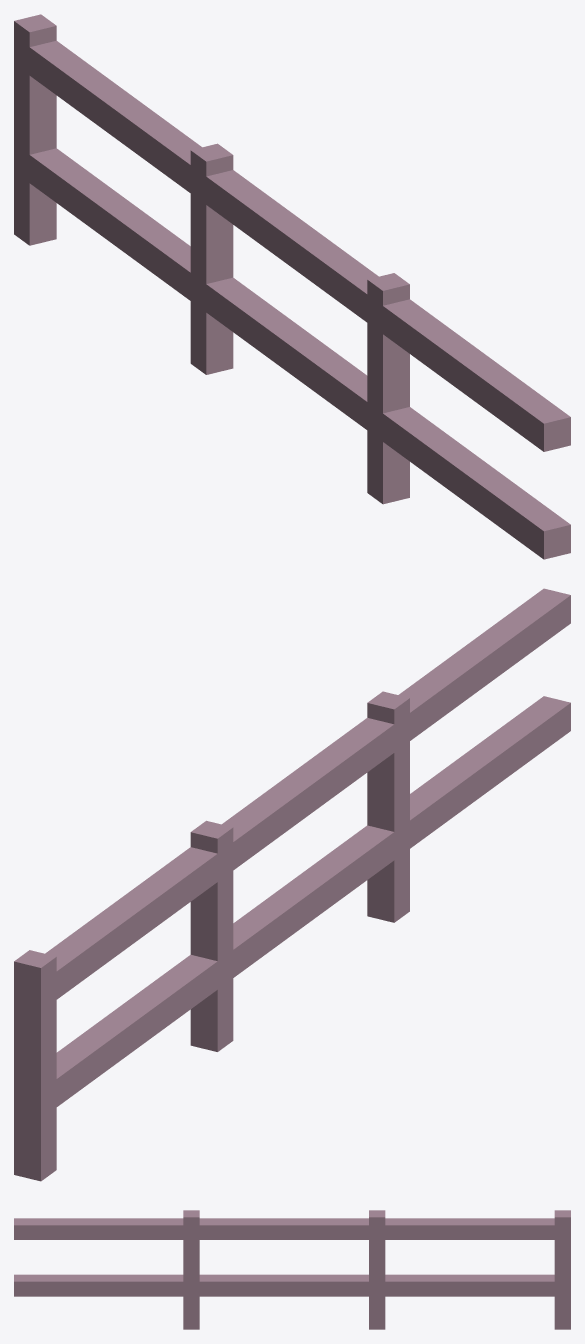
Rendered from SM_Fence_001.fbx.
The picture shows the model from 3 angles, top to bottom: view 1: azimuth 30°, elevation 25°; view 2: azimuth 150°, elevation 25°; view 3: azimuth 270°, elevation 25°; orthographic projection. The views are drawn at different scales.
Parts seen in each view (by area): view 1: SM_Fence; view 2: SM_Fence; view 3: SM_Fence.
Boxes of the visible parts, box(x1,y1,x2,y2) form: SM_Fence: box(14, 14, 570, 559); SM_Fence: box(14, 588, 570, 1181); SM_Fence: box(14, 1210, 570, 1329).
Bounding box in the file's own units: 14 × 105 × 474.
